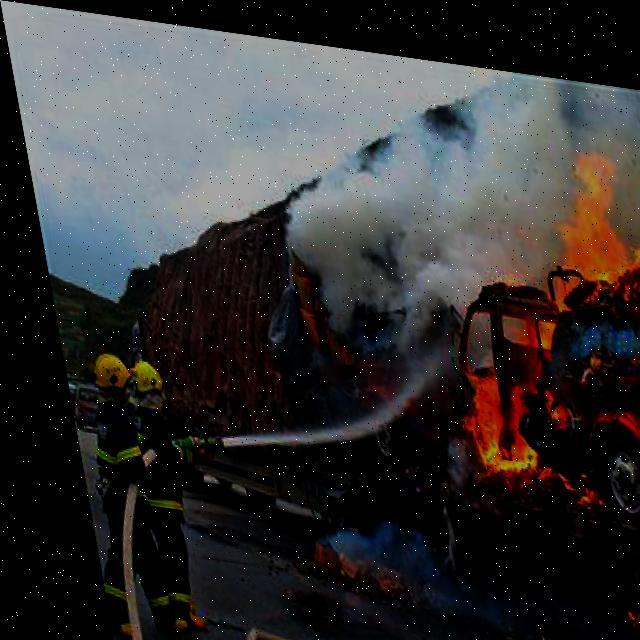Fire: (407, 108, 639, 528), (604, 638, 639, 639)
